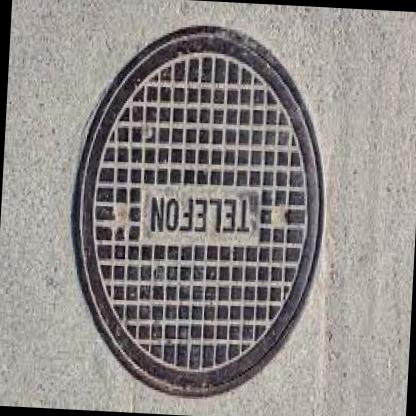manholes: (23, 0, 370, 416)
